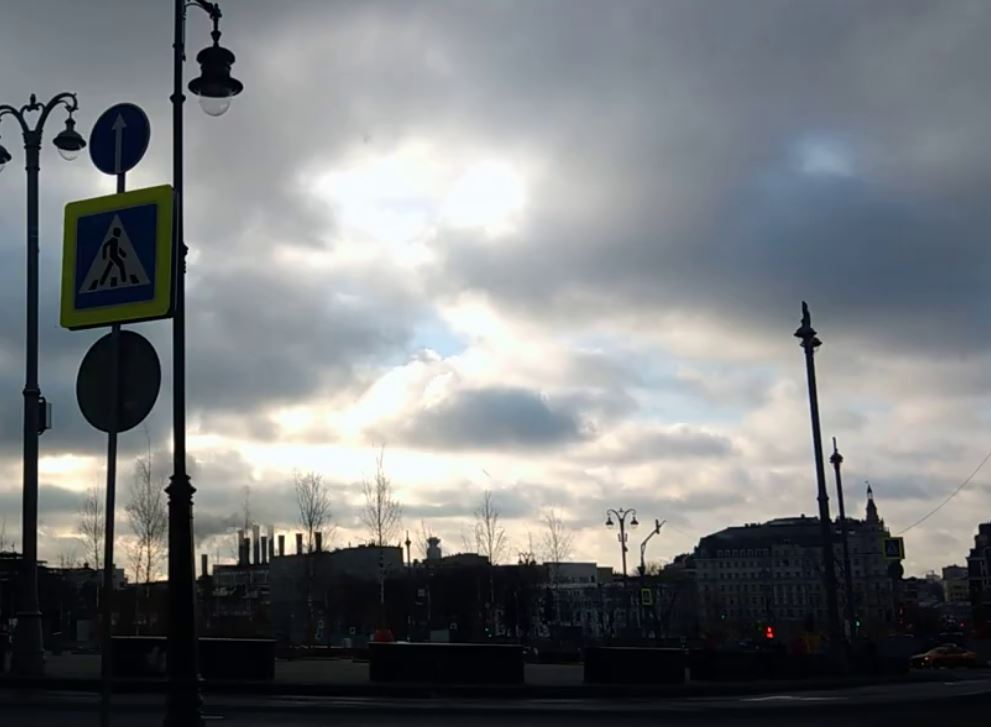Yaya Gecidi: (76, 211, 160, 304)
